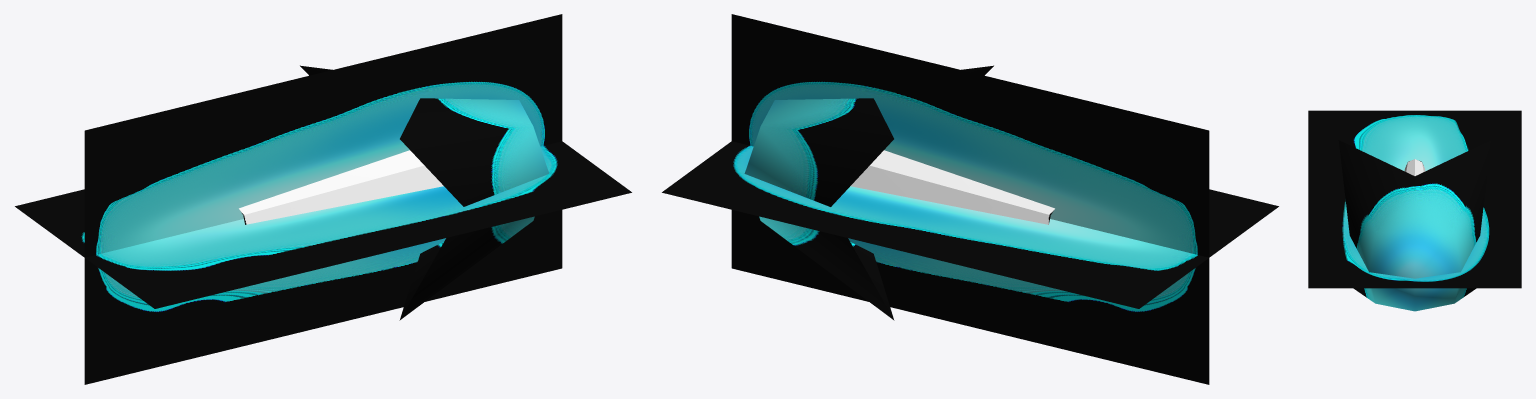
The model's file is tama.fbx.
3 renders of one model, left to right at view 1: azimuth 30°, elevation 25°; view 2: azimuth 150°, elevation 25°; view 3: azimuth 270°, elevation 25°, orthographic. The views are drawn at different scales.
Parts seen in each view (by area): view 1: pPlane2, pPlane1, pPlane3, pCylinder1; view 2: pPlane2, pPlane1, pPlane3, pCylinder1; view 3: pPlane1, pPlane3, pCylinder1.
Part boxes in pixels (x1,y1,x2,y2): pPlane2: (84, 14, 562, 384); pPlane1: (15, 141, 631, 308); pPlane3: (300, 65, 549, 320); pCylinder1: (239, 150, 443, 224); pPlane2: (731, 14, 1209, 384); pPlane1: (662, 141, 1278, 308); pPlane3: (744, 65, 993, 320); pCylinder1: (850, 150, 1054, 224); pPlane1: (1308, 110, 1521, 288); pPlane3: (1338, 140, 1491, 311); pCylinder1: (1404, 159, 1425, 175).
Bounding box in the file's own units: 13.14 × 6.69 × 6.69.
